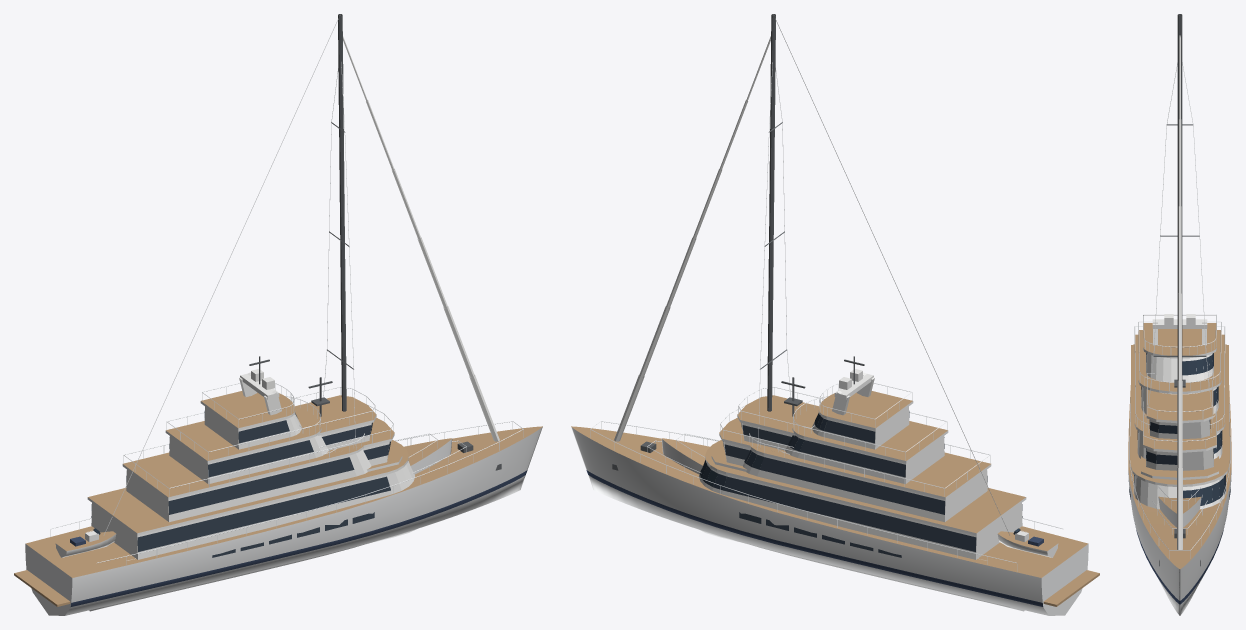
File: yachts.glb
The picture shows the model from 3 angles, left to right: view 1: azimuth 30°, elevation 25°; view 2: azimuth 150°, elevation 25°; view 3: azimuth 270°, elevation 25°; orthographic projection.
Parts seen in each view (by area): view 1: superyacht_lod0, sail_lod0, explorer_lod0; view 2: superyacht_lod0, sail_lod0, explorer_lod0; view 3: superyacht_lod0, explorer_lod0, sail_lod0.
Part boxes in pixels (x1,y1,x2,y2): superyacht_lod0: [14, 356, 542, 615]; sail_lod0: [88, 14, 499, 611]; explorer_lod0: [289, 377, 452, 474]; superyacht_lod0: [571, 356, 1099, 615]; sail_lod0: [614, 14, 1025, 611]; explorer_lod0: [661, 377, 824, 474]; superyacht_lod0: [1128, 314, 1231, 615]; explorer_lod0: [1141, 373, 1218, 527]; sail_lod0: [1146, 14, 1213, 549].
Size of what is drawn, in the model's own units: 61.6 by 62.16 by 10.98.
